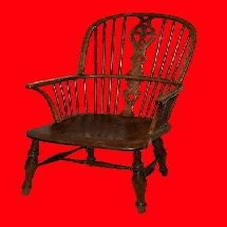chair: (9, 13, 206, 218)
